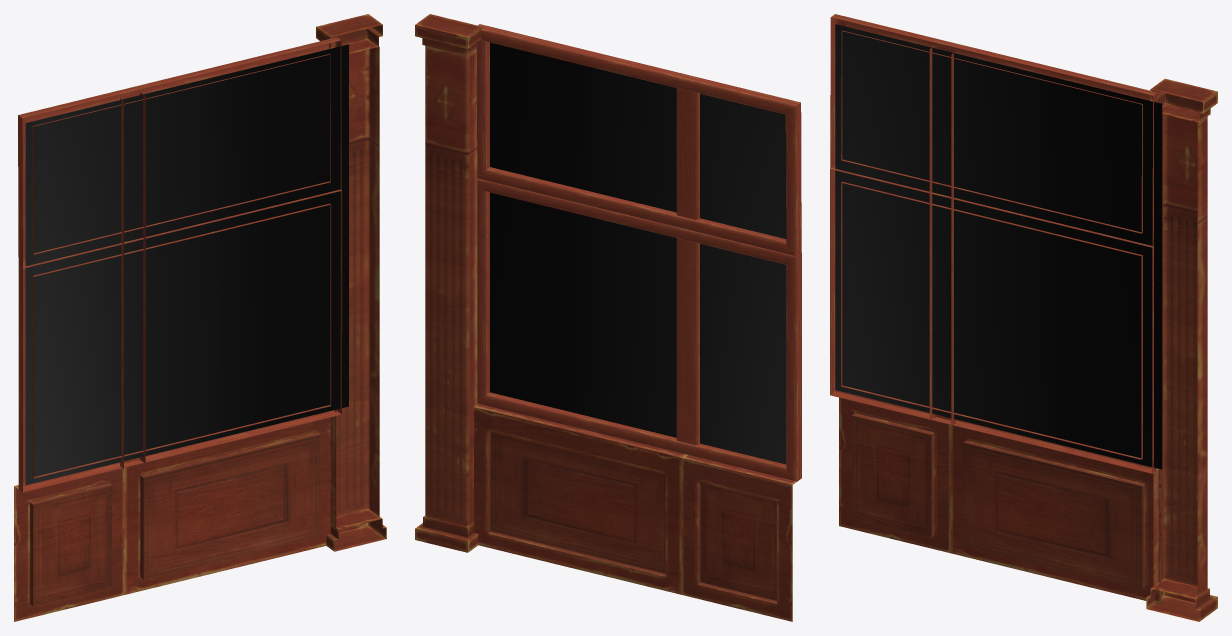
Rendered from Shop_1_1_10 (9).fbx.
3 renders of one model, left to right at view 1: azimuth 30°, elevation 25°; view 2: azimuth 150°, elevation 25°; view 3: azimuth 330°, elevation 25°, orthographic.
Visible parts, largest first — view 1: Glass2, Shop_1_1_10__9_; view 2: Shop_1_1_10__9_, Glass2; view 3: Glass2, Shop_1_1_10__9_.
Part boxes in pixels (left/top/right/bottom): Glass2: left=25, top=44, right=348, bottom=485; Shop_1_1_10__9_: left=14, top=14, right=386, bottom=621; Shop_1_1_10__9_: left=415, top=14, right=801, bottom=621; Glass2: left=490, top=42, right=786, bottom=464; Glass2: left=835, top=24, right=1162, bottom=469; Shop_1_1_10__9_: left=830, top=14, right=1217, bottom=621.
Bounding box in the file's own units: 253 × 339 × 24.64.
